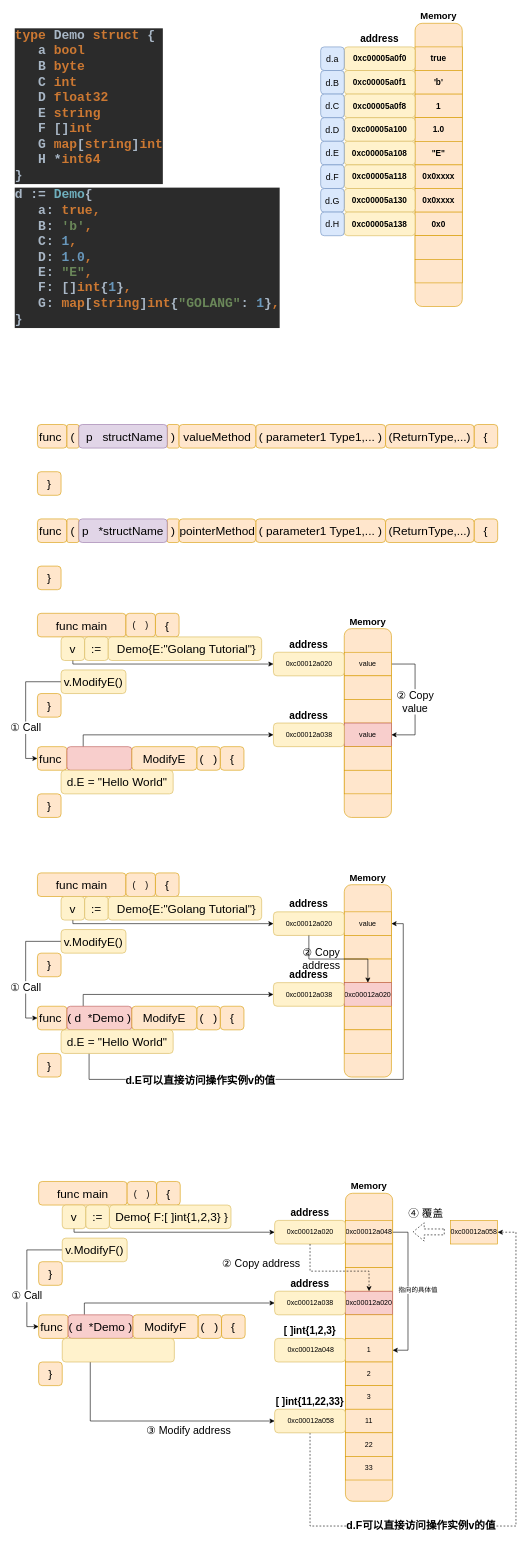
Image size: 531x1542. Some labels were removed from this diagram. The shapes that lost their labels are listed below. From the top down, each one's centre as x and y in pixels, then its label:
At point (99, 758): "( d Demo )".
At point (118, 1350): "d.F = [ ]int{11,22,33}".
